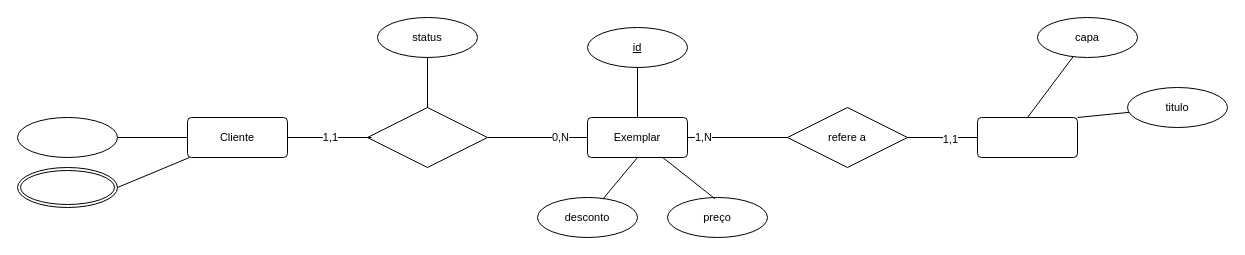
This 1245x255 diagram has some shape labels left out. The shapes that lost their labels are listed below. From the top down, each one's box as (x1, y1, x2, y2) in pixels, then its label:
(16, 116, 118, 158): email
(366, 106, 488, 168): compra
(976, 116, 1078, 158): Livro
(16, 166, 118, 208): endereço
